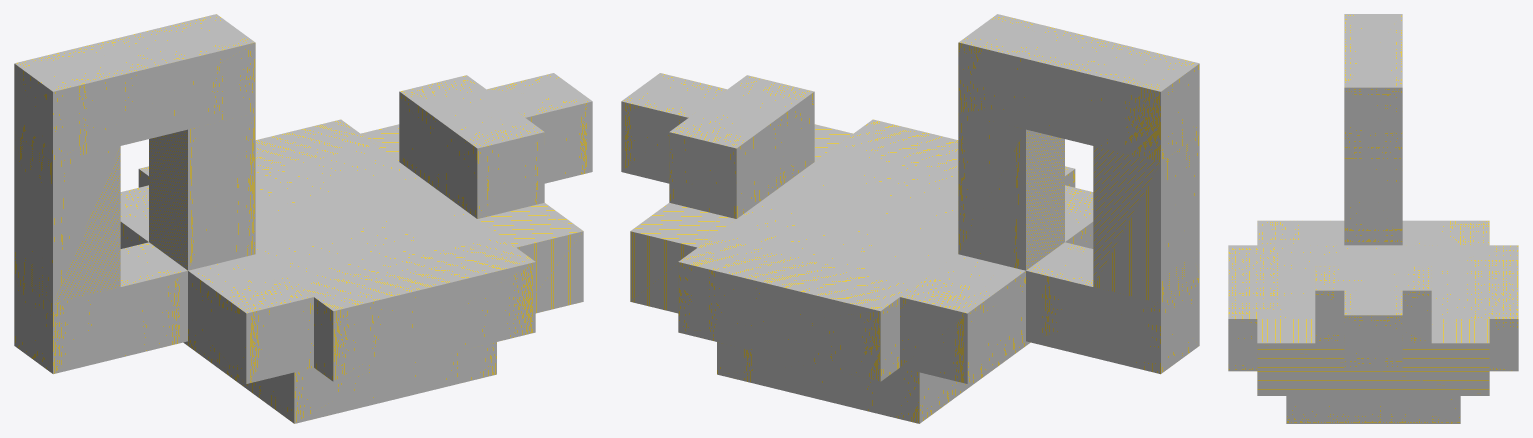
The model's file is candlestick.fbx.
3 renders of one model, left to right at view 1: azimuth 30°, elevation 25°; view 2: azimuth 150°, elevation 25°; view 3: azimuth 270°, elevation 25°, orthographic. The views are drawn at different scales.
Parts seen in each view (by area): view 1: generated; view 2: generated; view 3: generated.
Part boxes in pixels (x1,y1,x2,y2): generated: (14, 14, 592, 423); generated: (621, 14, 1199, 423); generated: (1228, 14, 1518, 423).
Bounding box in the file's own units: 80 × 50 × 50.
1 material, 1 textured.
